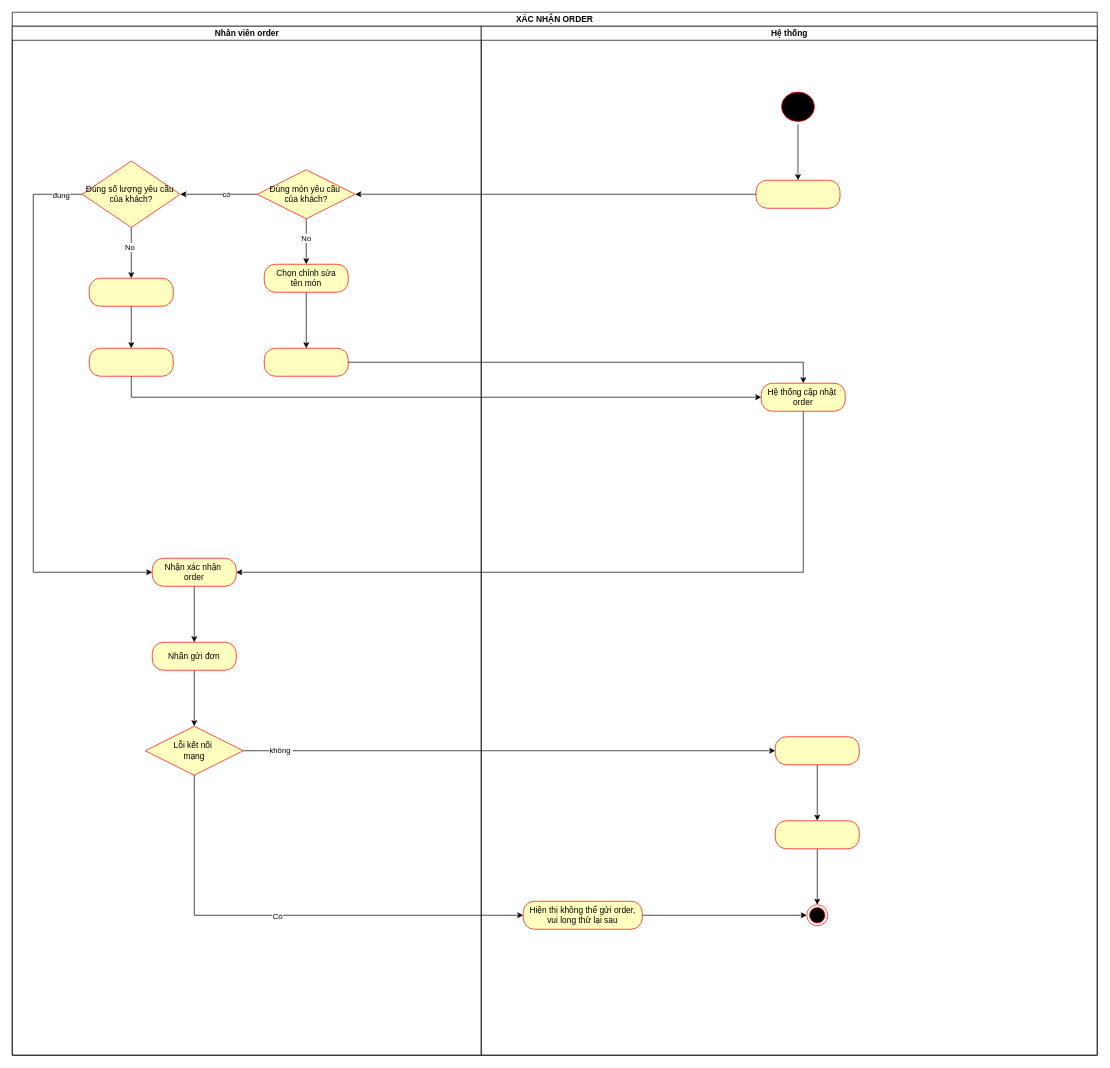
Image size: 1110x1068. Some labels were removed from this diagram. The shapes that lost their labels are listed below. From the top down, each one's centre as x and y in pixels, then its label:
the point at 797,194: Hiển thị order
the point at 131,292: Chọn chỉnh sửa số lương
the point at 131,362: Sửa số lượng
the point at 306,362: Sửa tên món
the point at 817,750: Cập nhật xác nhật order
the point at 817,834: Gửi order tới bếp/pha chế
